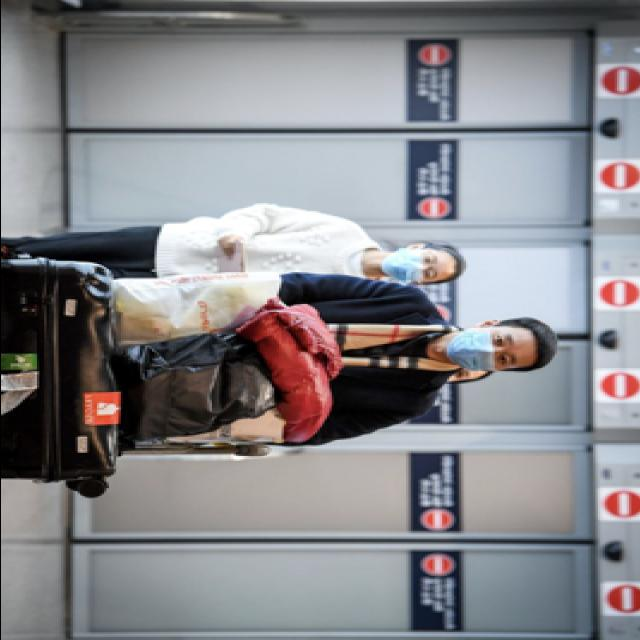with_mask: (443, 328, 522, 374), (376, 250, 444, 284)
